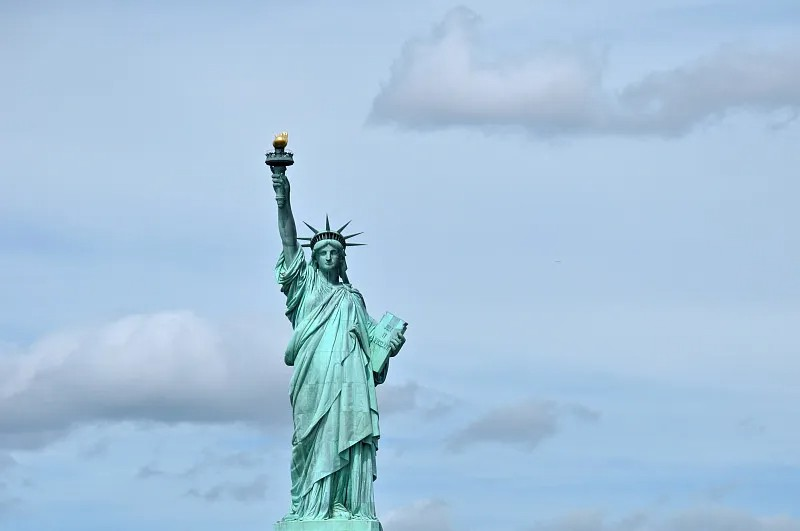SL: (265, 131, 408, 531)
